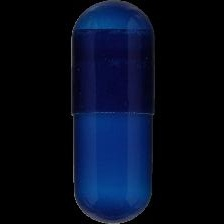53808-1055: (0, 0, 224, 224)
